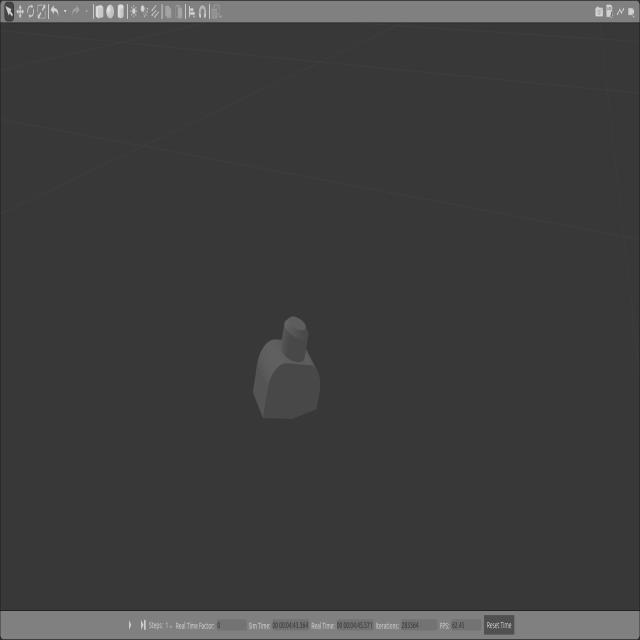block5: (253, 317, 321, 419)
